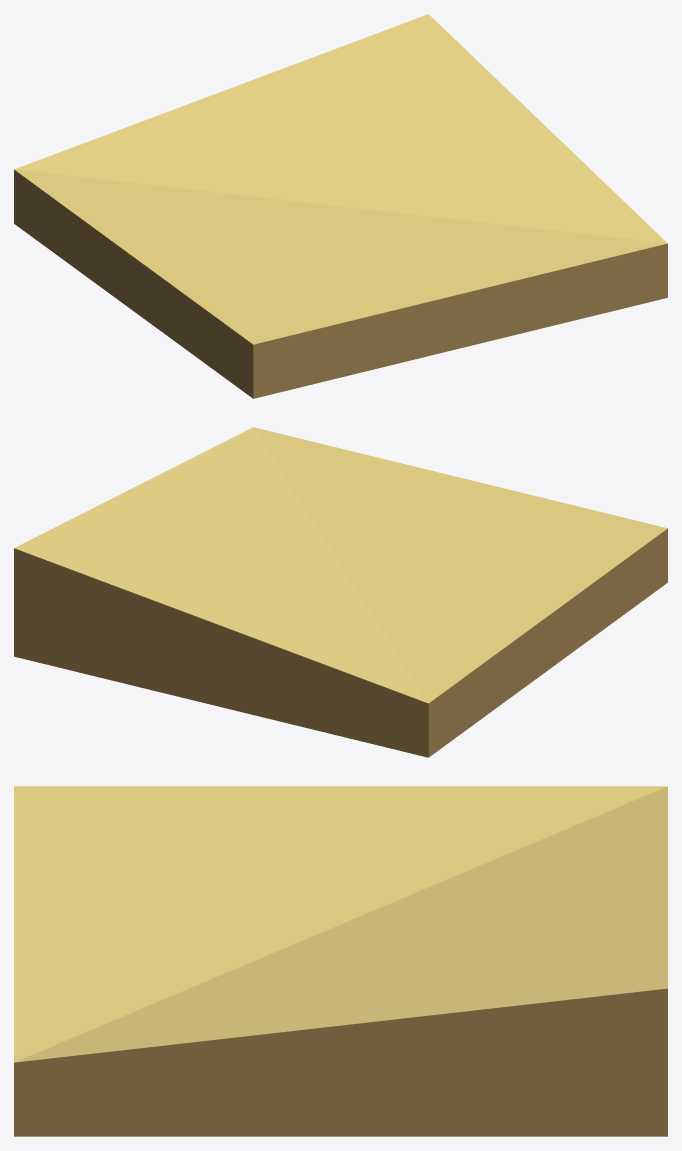
File: Terrain_Tile_Sand_Corner_Ramp_02.fbx
3 renders of one model, top to bottom at view 1: azimuth 30°, elevation 25°; view 2: azimuth 150°, elevation 25°; view 3: azimuth 270°, elevation 25°, orthographic. The views are drawn at different scales.
Visible parts, largest first — view 1: Terrain_Tile_Sand_Corner_Ramp_02; view 2: Terrain_Tile_Sand_Corner_Ramp_02; view 3: Terrain_Tile_Sand_Corner_Ramp_02.
Part boxes in pixels (<box>): Terrain_Tile_Sand_Corner_Ramp_02: <box>14,14,667,398</box>; Terrain_Tile_Sand_Corner_Ramp_02: <box>14,427,667,757</box>; Terrain_Tile_Sand_Corner_Ramp_02: <box>14,786,667,1136</box>.
Size of the model in its own units: 126 by 31.5 by 126.
